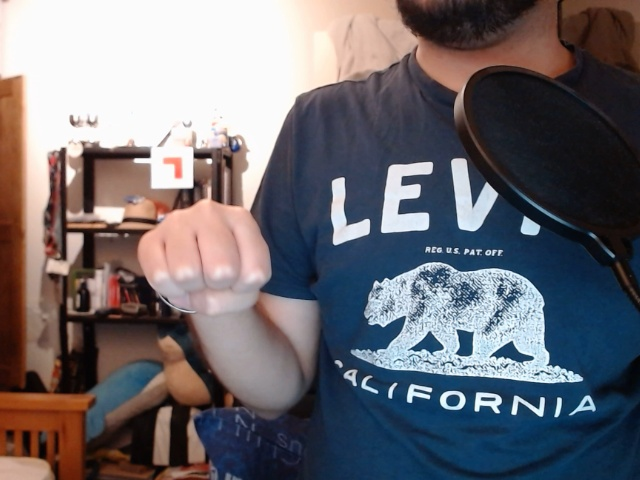Yes: (131, 191, 275, 314)
